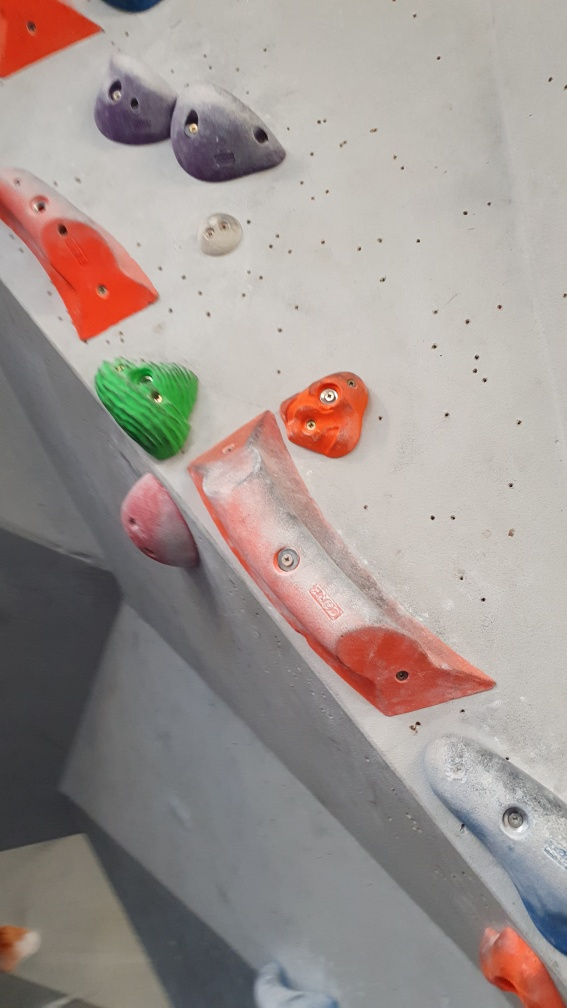Jug: (168, 84, 291, 186), (92, 353, 206, 463), (91, 51, 172, 145), (251, 961, 340, 1008)
Pinch: (187, 405, 503, 719), (422, 725, 567, 957), (1, 155, 161, 339)
Sloper: (108, 465, 202, 575)
